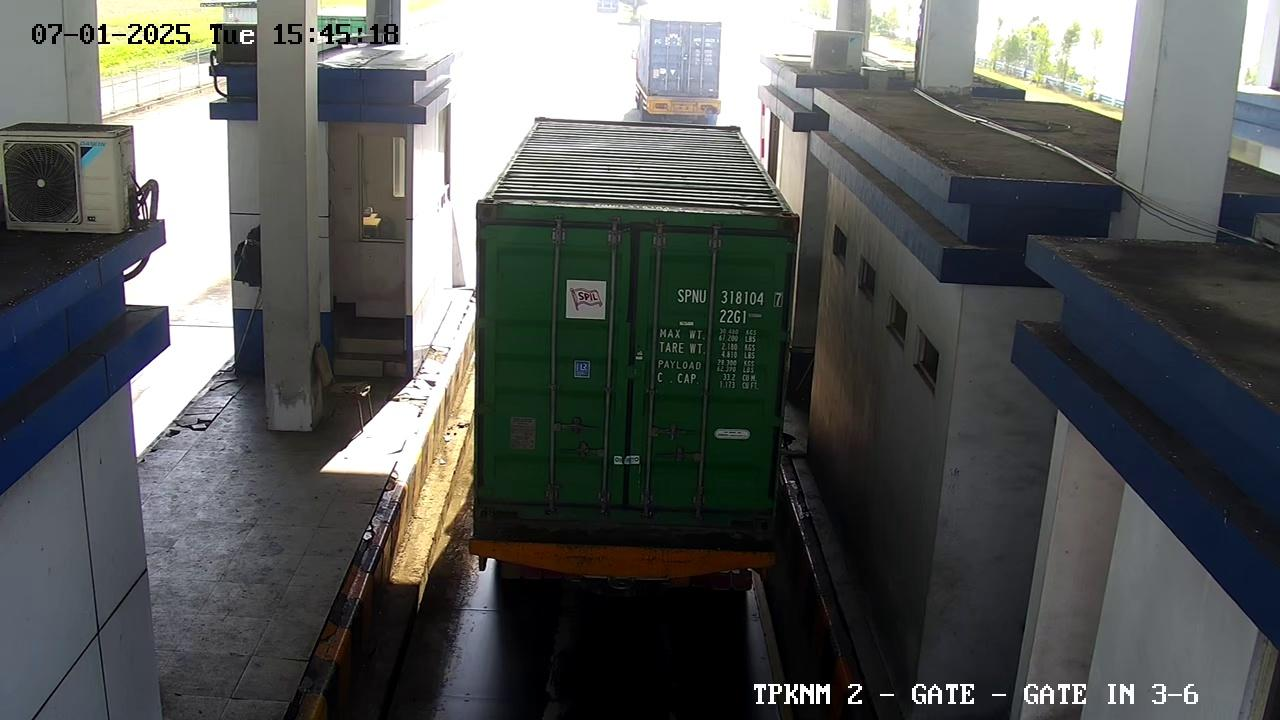Container_ID: (664, 278, 797, 332)
